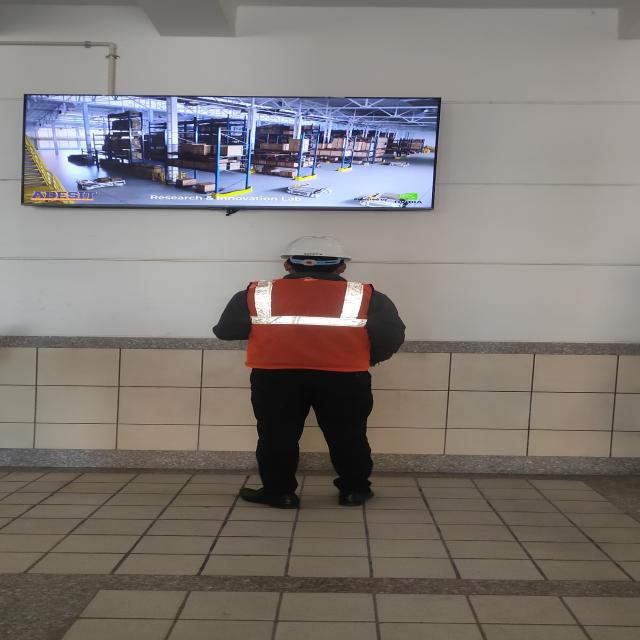safe: (211, 239, 406, 509)
